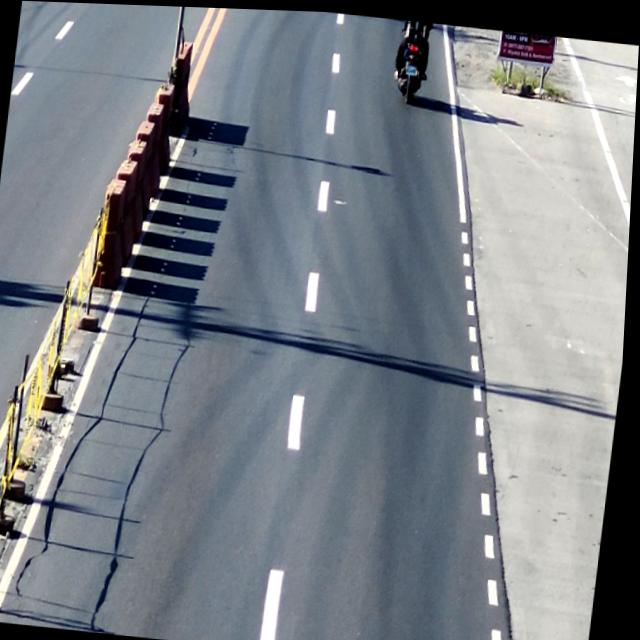Motorcycle: (393, 17, 437, 104)
